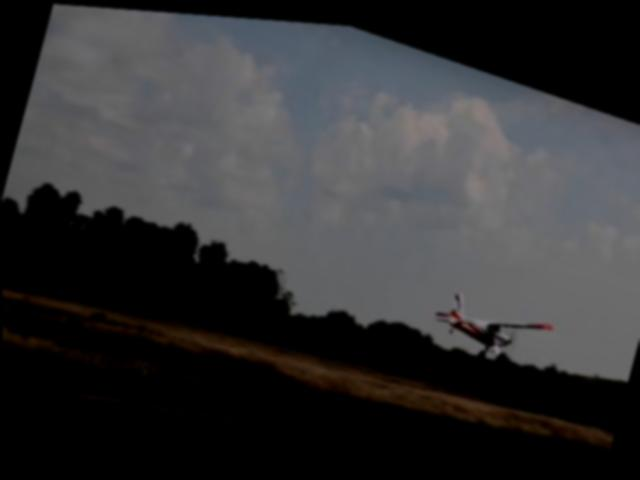uav: (418, 266, 558, 382)
